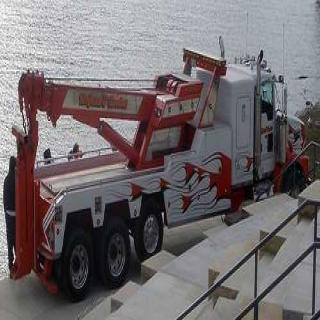Towing_truck: (3, 36, 310, 300)
